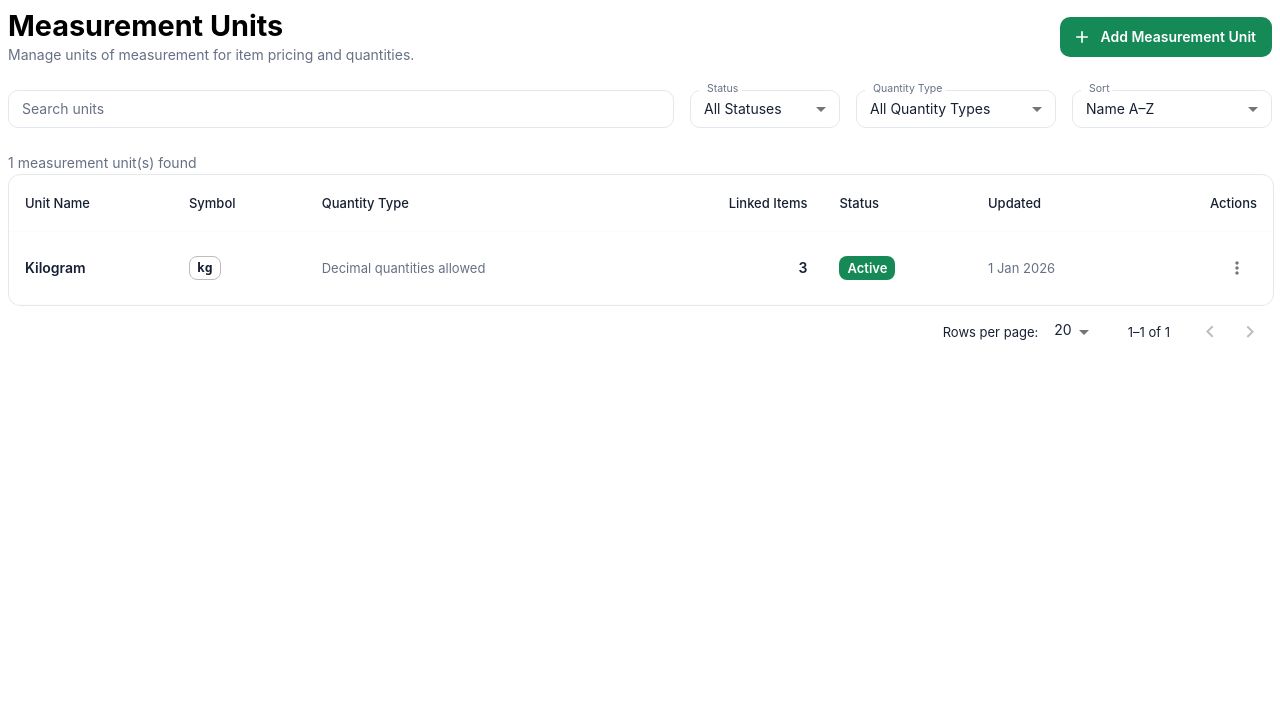
Scenario: measurement unit frontend › blocks measurement unit deletion when linked items are present
expect the text "Kilogram" is shown: met, box [25,259,86,276]
Click the button named "actions for kilogram" at (1237, 268), box [1217,248,1257,288]
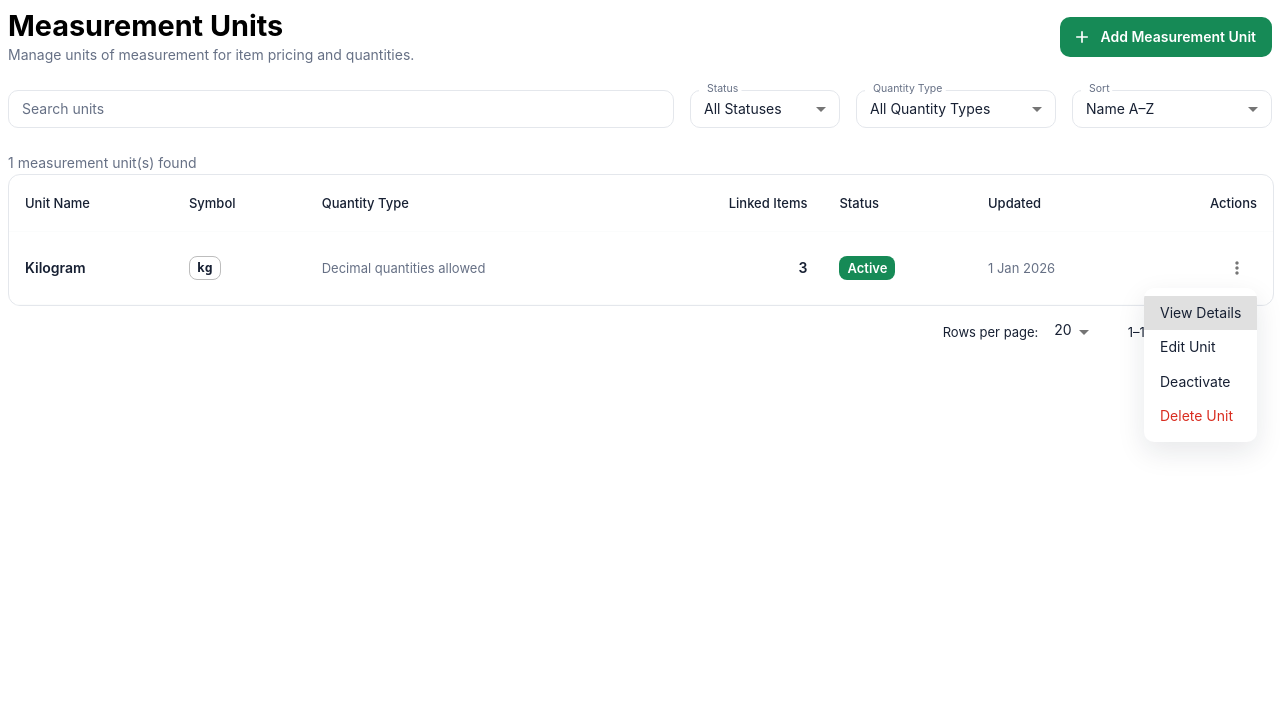
Click the menu item "Delete Unit" at (1196, 416), box [1160,407,1233,424]
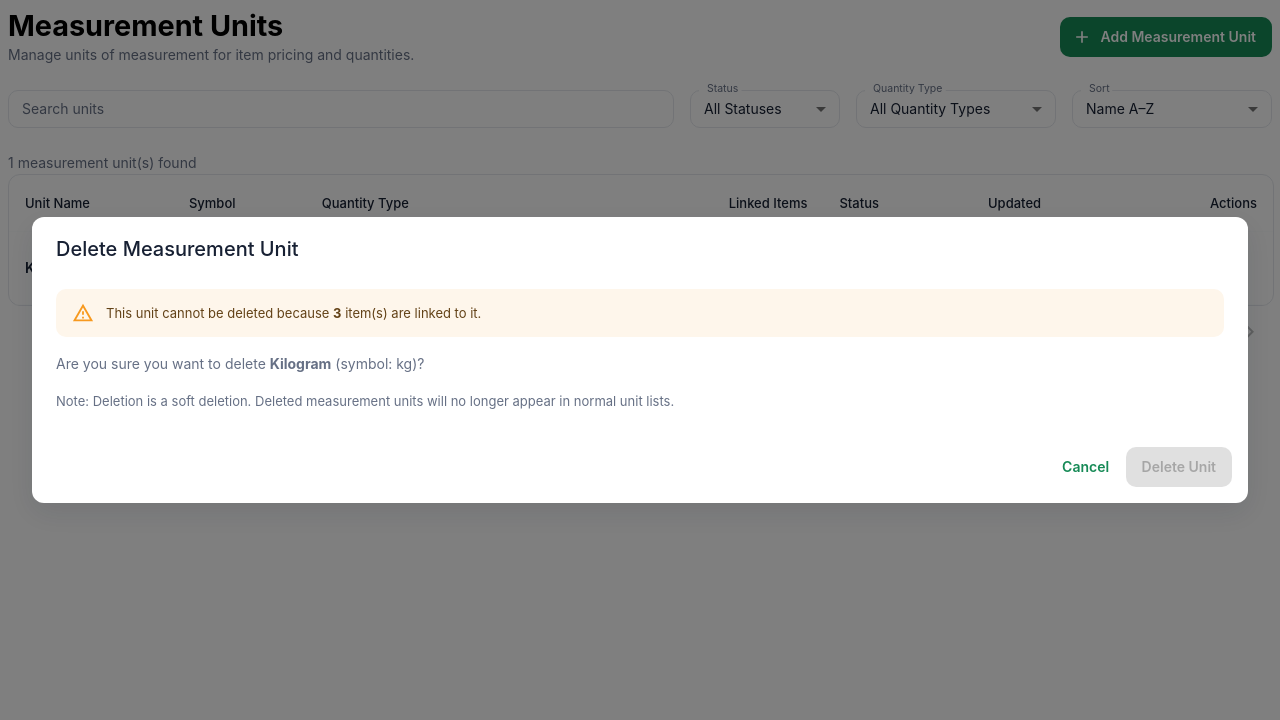
expect the button "Delete Unit" is disabled: met, box [1126,447,1232,487]
expect the text "cannot be deleted because" is shown: met, box [106,305,333,321]
